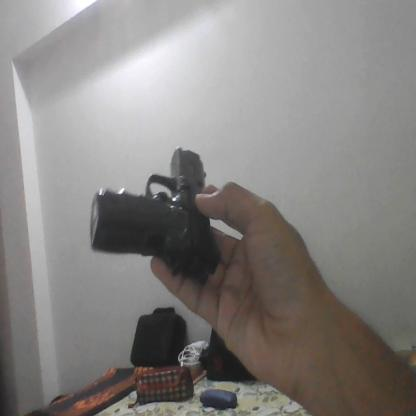handgun: (90, 146, 221, 288)
